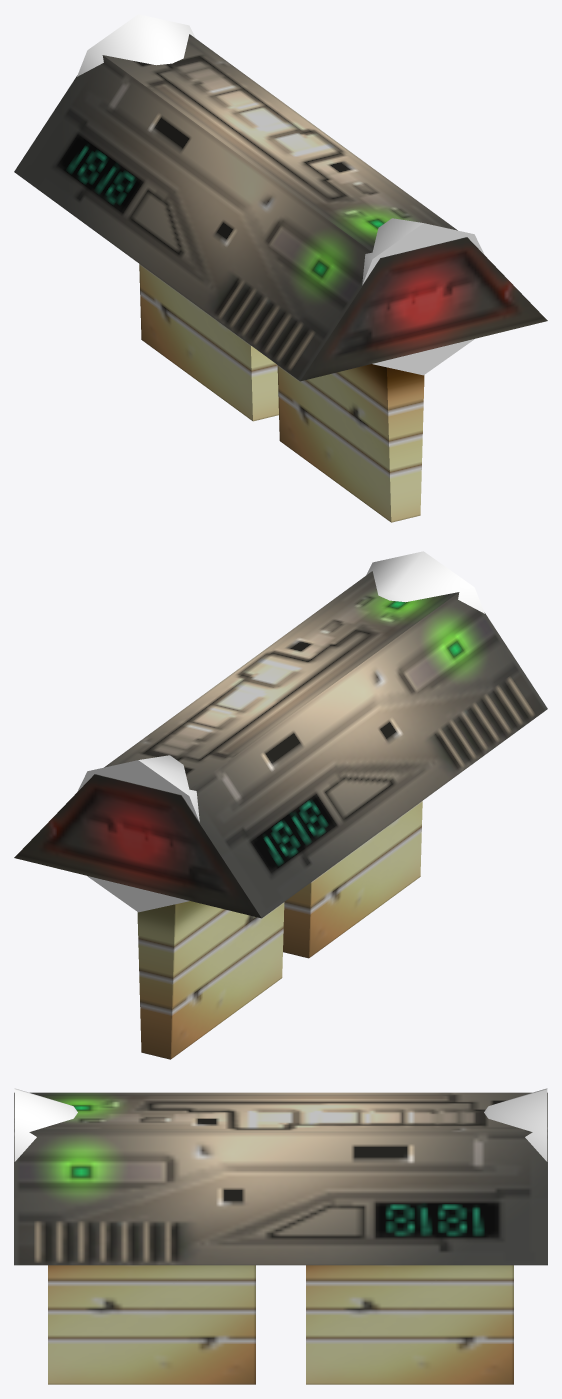
File: acs29.obj
3 views of the same model, one above another, from view 1: azimuth 30°, elevation 25°; view 2: azimuth 150°, elevation 25°; view 3: azimuth 270°, elevation 25° (orthographic). The views are drawn at different scales.
Visible parts, largest first — view 1: frm-fuselg, frm-bfuselg1, frm-bfuselg2, frm-SS1, frm-SS2; view 2: frm-fuselg, frm-bfuselg2, frm-bfuselg1, frm-SS2, frm-SS1; view 3: frm-fuselg, frm-bfuselg2, frm-bfuselg1, frm-SS2, frm-SS1.
Boxes of the visible parts, x1,y1,x2,y2 form: frm-fuselg: (14, 34, 547, 381); frm-bfuselg1: (277, 364, 424, 522); frm-bfuselg2: (139, 264, 278, 421); frm-SS1: (362, 218, 484, 375); frm-SS2: (77, 14, 195, 76); frm-fuselg: (14, 571, 547, 918); frm-bfuselg2: (137, 901, 284, 1059); frm-bfuselg1: (283, 801, 422, 958); frm-SS2: (77, 755, 199, 912); frm-SS1: (366, 551, 484, 613); frm-fuselg: (14, 1092, 547, 1265); frm-bfuselg2: (306, 1265, 513, 1384); frm-bfuselg1: (48, 1265, 255, 1384); frm-SS2: (484, 1088, 547, 1161); frm-SS1: (14, 1088, 77, 1161).
Size of the model in its own units: 0.1159 by 0.1381 by 0.2318.
